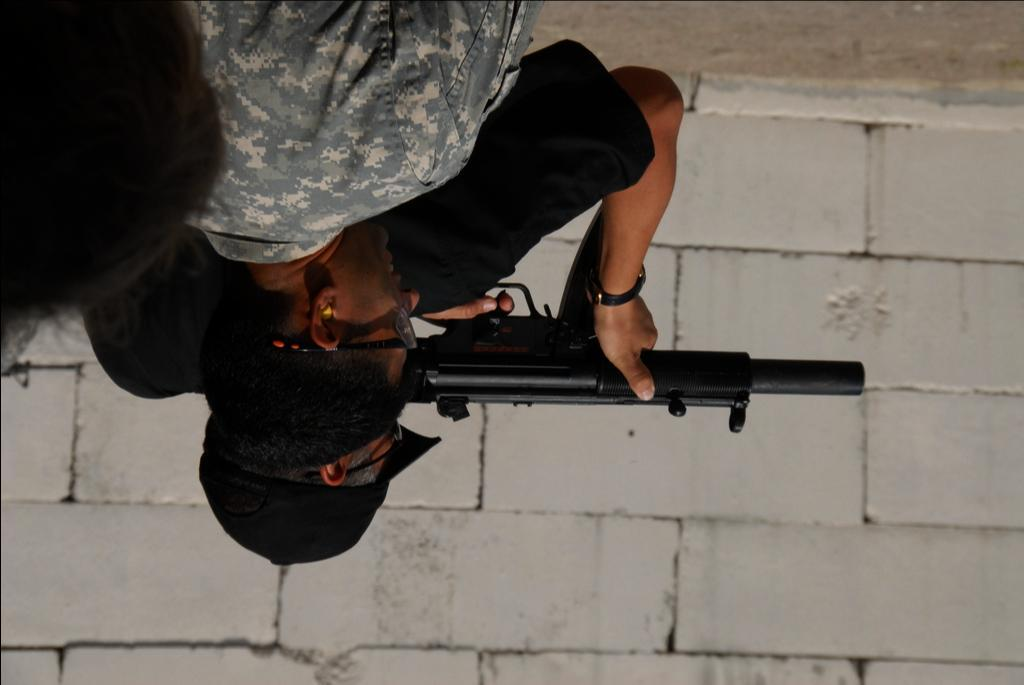gun: (408, 320, 868, 432)
